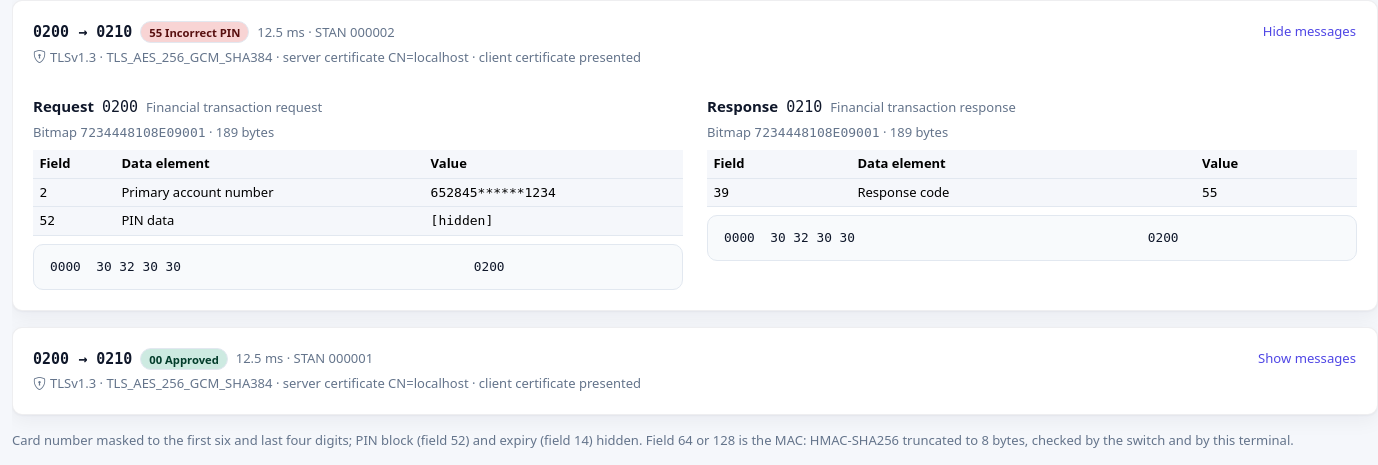
MessageInspector › lets another exchange be expanded instead
Click the button "Show messages": [1307, 359] box [1257,348,1357,370]
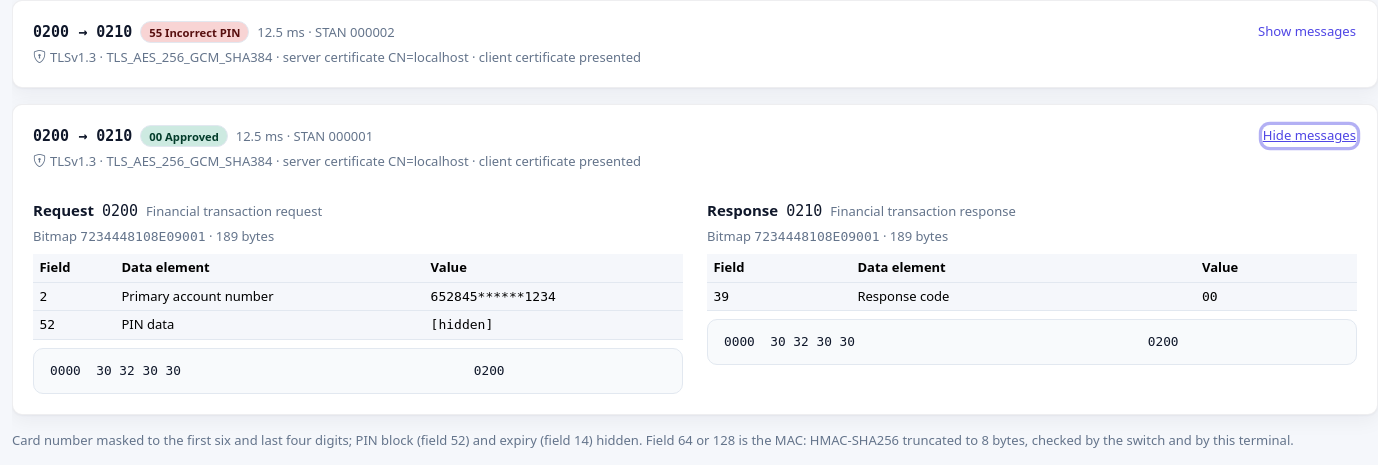
Expected: the button "Hide messages" is expanded, [1262,125,1357,147]
Expected: the button "Show messages" is collapsed, [1257,21,1357,43]
